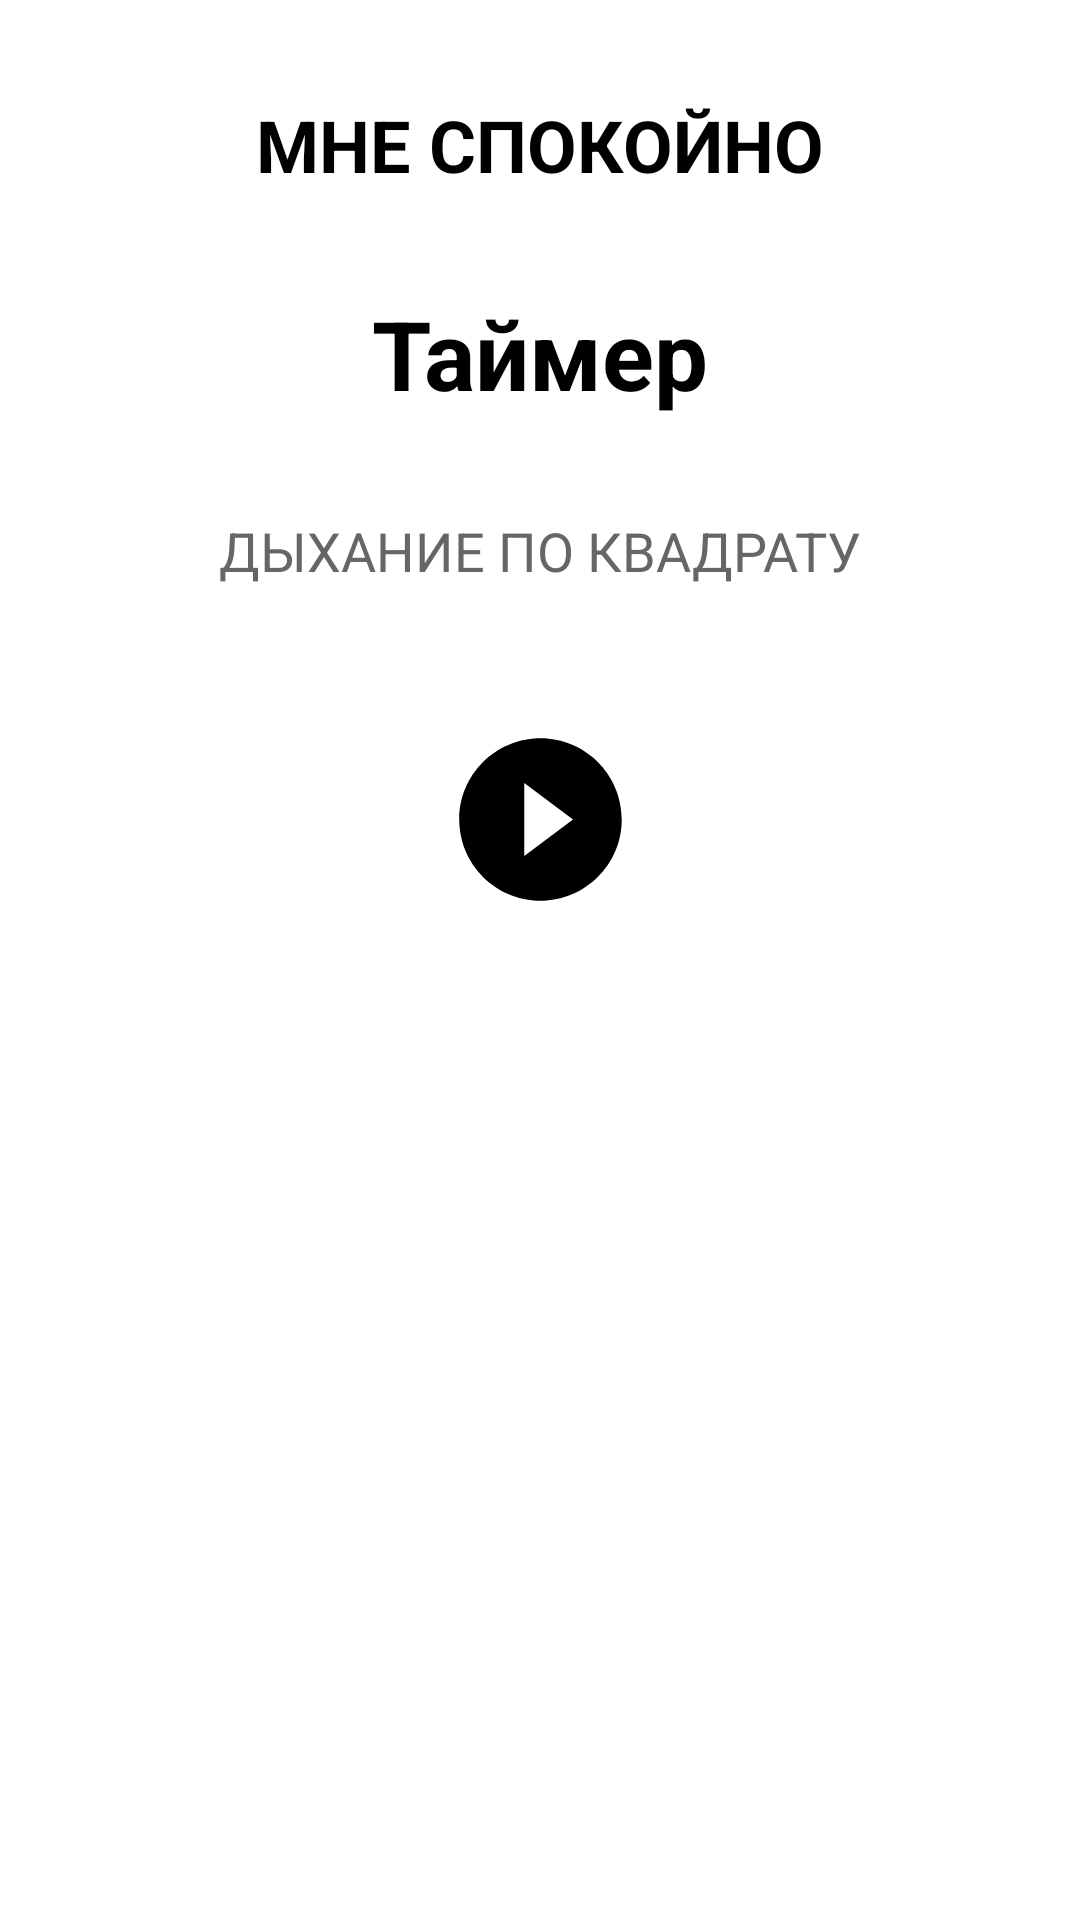

Screen size 1080px×1920px. Icon name, then its center in pixels as (x,y):
paused: (540,819)
